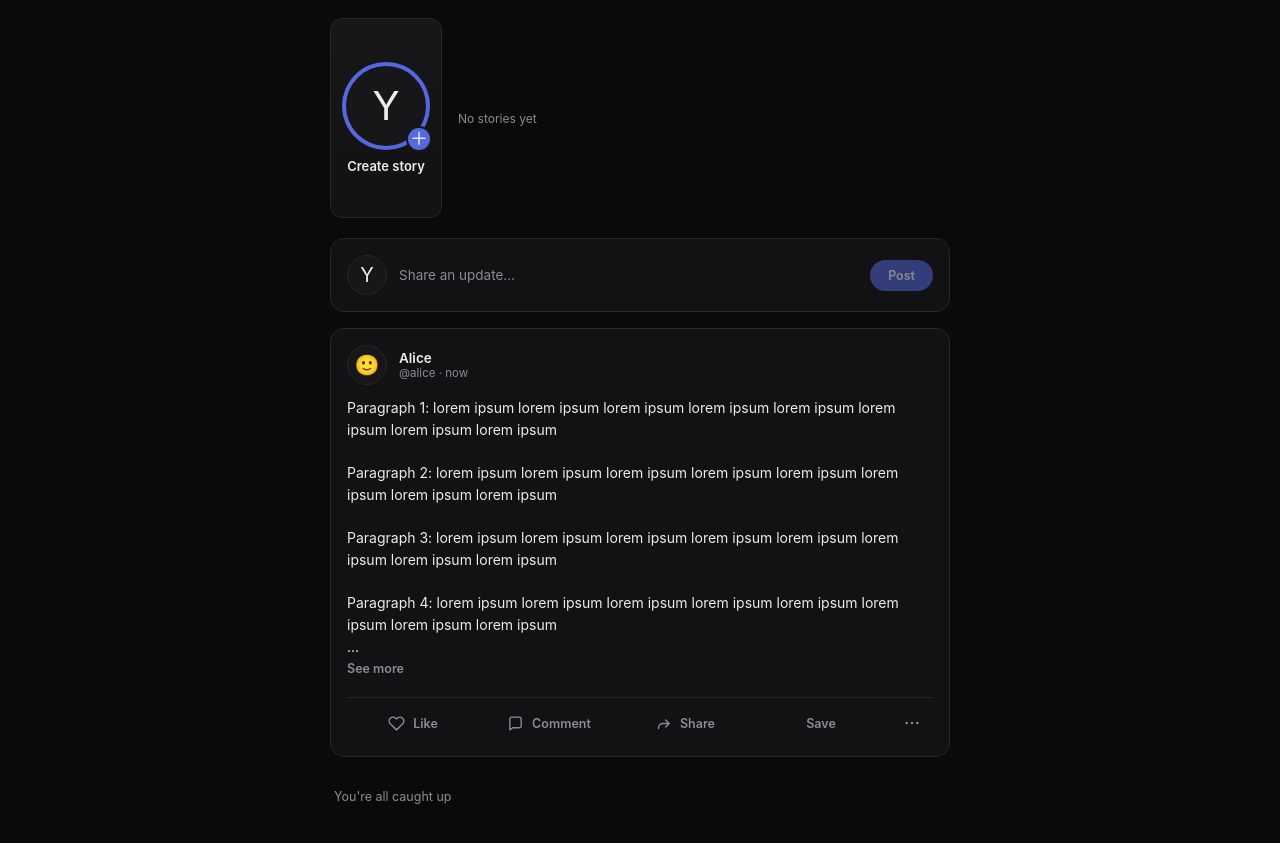
Test: FeedView action hierarchy › clamps a long post body behind a See more toggle (FEED-8)
This screenshot has width=1280, height=843.
Click the button "See more": [376, 669] box [347,661,404,676]
(page scrolled)
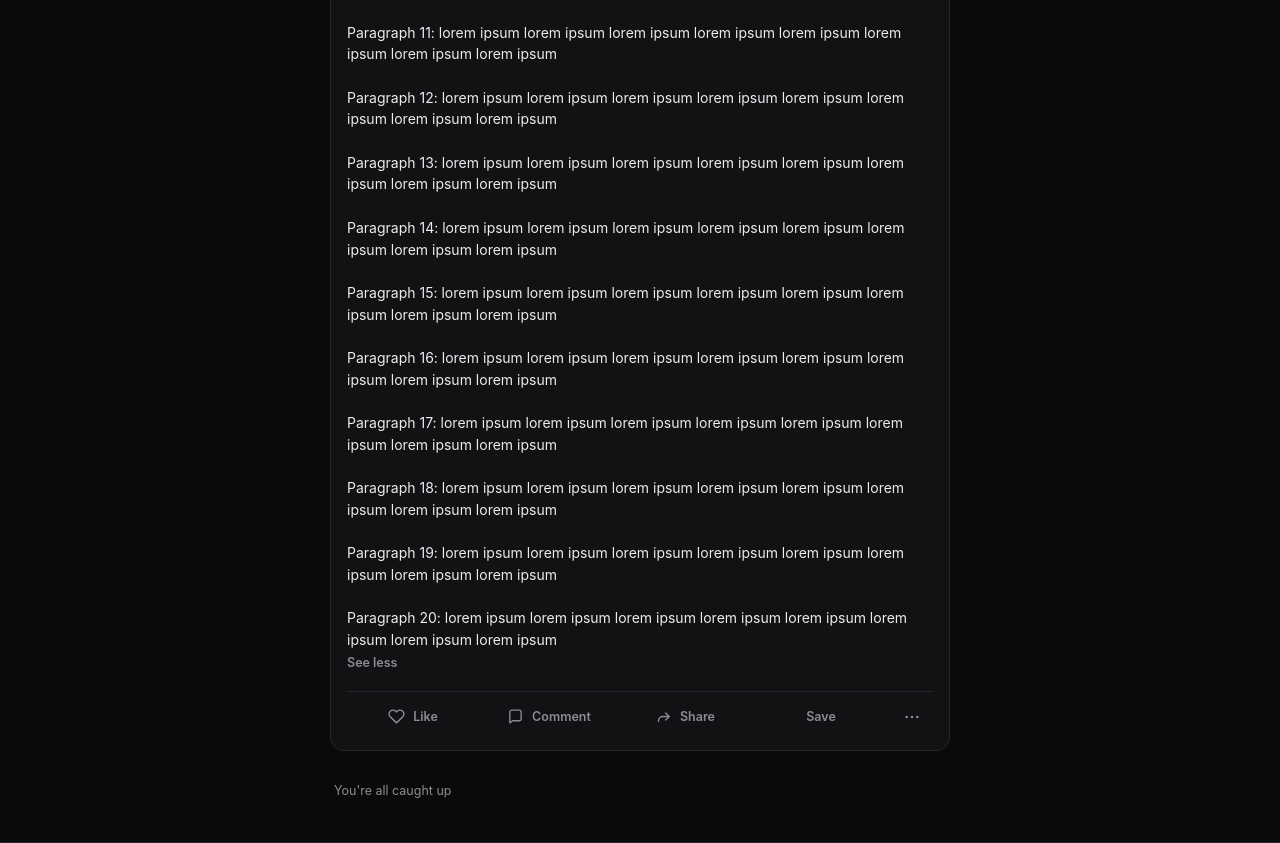
Result: the button "See less" is shown at [347,655,398,670]
